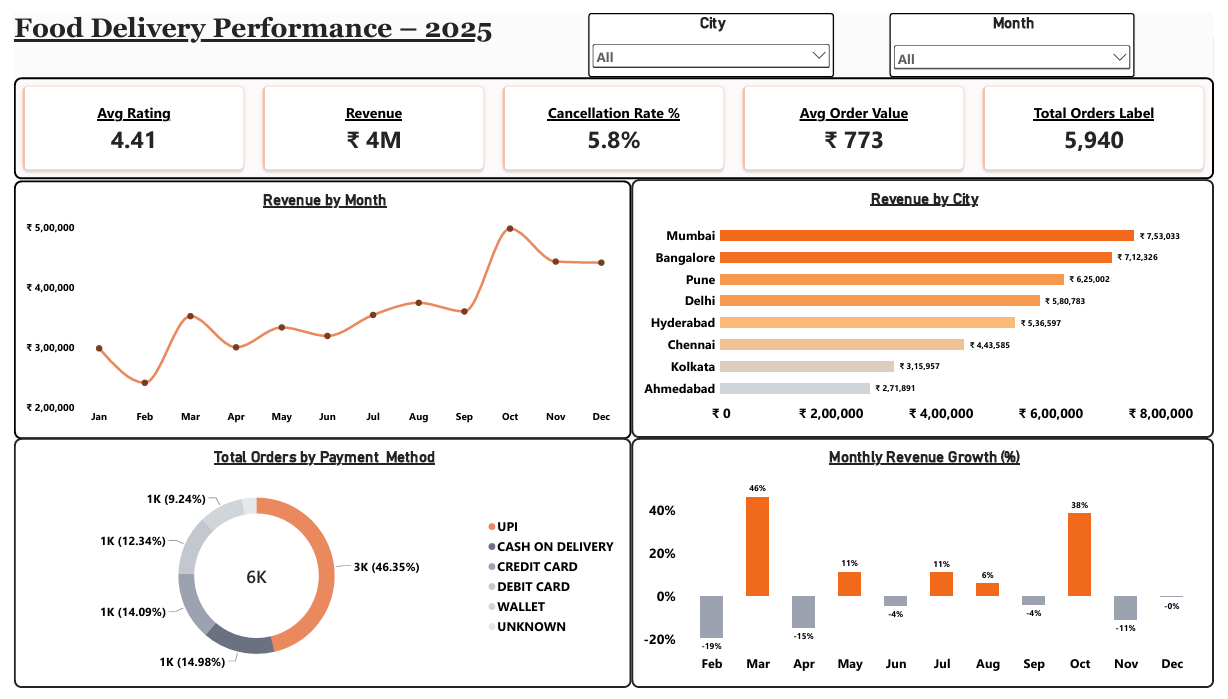

Layout of this report page (visuals, bound fields, positions):
{"tool":"powerbi","page":{"name":"Overview","canvas":[1920,1080],"ordinal":0},"visuals":[{"type":"cardVisual","fields":{"Data":["Measures .Avg Rating","Measures .Revenue","Measures .Cancellation Rate %","Measures .Avg Order Value","Measures .Total Orders Label"]},"box":[0,103.2,1920.1,162.9],"z":0},{"type":"textbox","box":[0,0,799.9,103.2],"z":1000},{"type":"lineChart","title":"Revenue by Month","fields":{"Category":["Calendar.Month Name"],"Y":["Measures .Revenue"]},"box":[0,267.8,988.1,414.4],"z":2000},{"type":"barChart","title":"Revenue by City","fields":{"Category":["Delivery_Partners.City"],"Y":["Measures .Revenue"]},"box":[988.1,266,932,414.4],"z":3000},{"type":"donutChart","fields":{"Category":["Orders.Payment_Method"],"Y":["Measures .Total Orders"]},"box":[0,680.4,988.1,399.9],"z":4000},{"type":"slicer","title":"Month","fields":{"Values":["Calendar.Month Name"]},"box":[1400.7,0,392.7,103.2],"z":5000},{"type":"slicer","title":"City","fields":{"Values":["Orders.City"]},"box":[919.3,0,392.7,103.2],"z":6000},{"type":"clusteredColumnChart","title":"Monthly Revenue Growth (%)","fields":{"Category":["Calendar.Month Name"],"Y":["Measures .Revenue MoM %"]},"box":[988.1,680.4,932,399.9],"z":7000}]}

Visuals, with their boxes in screenshot pixels (x1, y1, x2, y2), scaled from the page's 1920x1080 canvas onto the 1228x699 screenshot:
cardVisual - Measures .Avg Rating x Measures .Revenue: x1=0 y1=67 x2=1227 y2=172
textbox: x1=0 y1=0 x2=512 y2=67
"Revenue by Month" lineChart: x1=0 y1=173 x2=632 y2=442
"Revenue by City" barChart: x1=632 y1=172 x2=1227 y2=440
donutChart - Orders.Payment_Method x Measures .Total Orders: x1=0 y1=440 x2=632 y2=698
"Month" slicer: x1=896 y1=0 x2=1147 y2=67
"City" slicer: x1=588 y1=0 x2=839 y2=67
"Monthly Revenue Growth (%)" clusteredColumnChart: x1=632 y1=440 x2=1227 y2=698
